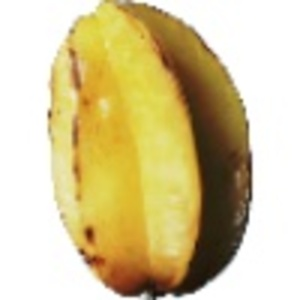carambola: (47, 1, 254, 300)
